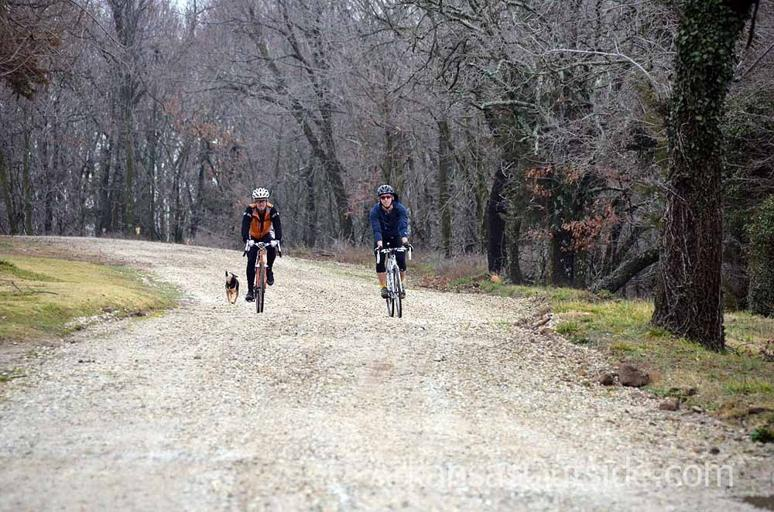non-vehicle: (243, 240, 281, 313), (376, 246, 411, 317)
